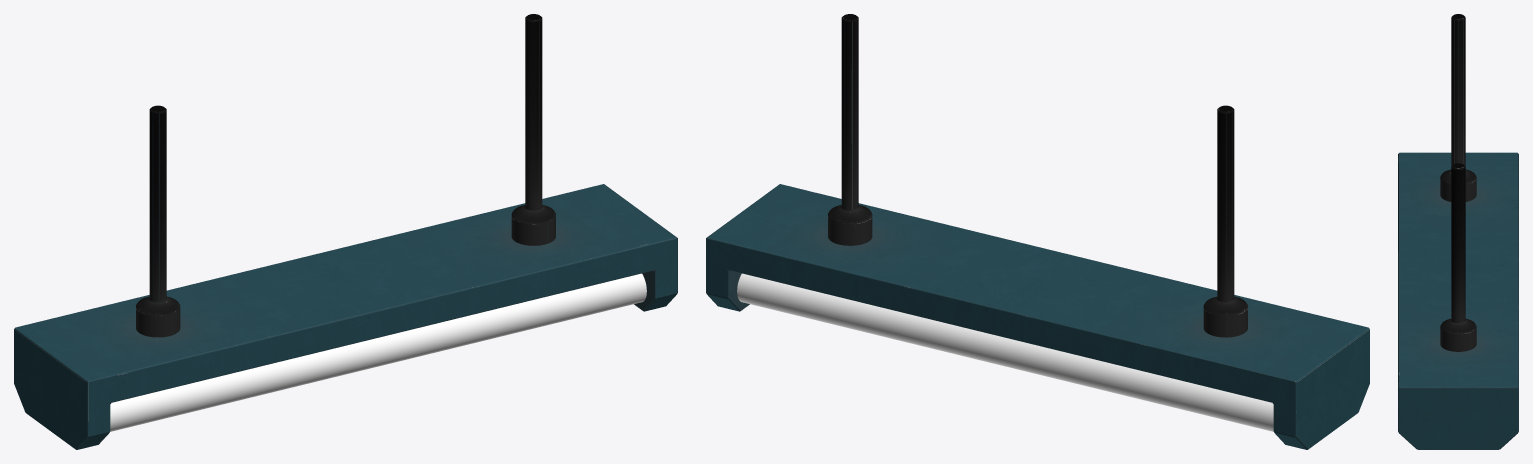
File: Light.fbx
The picture shows the model from 3 angles, left to right: view 1: azimuth 30°, elevation 25°; view 2: azimuth 150°, elevation 25°; view 3: azimuth 270°, elevation 25°; orthographic projection. The views are drawn at different scales.
Parts seen in each view (by area): view 1: Light, LightTube, CeilingRod; view 2: Light, LightTube, CeilingRod; view 3: Light, CeilingRod.
Part boxes in pixels (bbox=[...]): Light: bbox=[14, 184, 677, 449]; LightTube: bbox=[110, 273, 646, 431]; CeilingRod: bbox=[136, 14, 555, 337]; Light: bbox=[706, 184, 1369, 449]; LightTube: bbox=[737, 273, 1273, 431]; CeilingRod: bbox=[828, 14, 1247, 337]; Light: bbox=[1398, 152, 1518, 449]; CeilingRod: bbox=[1440, 14, 1476, 351].
Bounding box in the file's own units: 93.66 × 45.02 × 20.35.
Materials: 1 (1 with a texture image).
